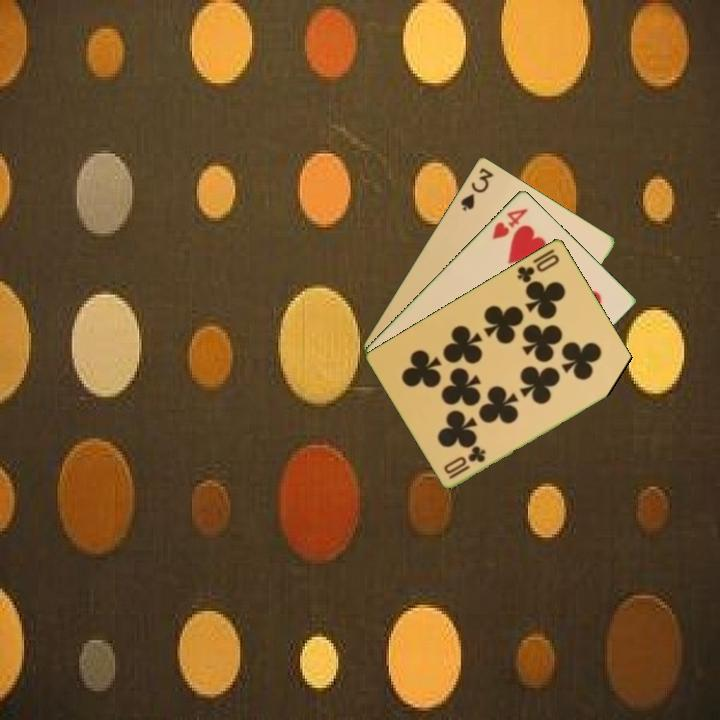10c: (513, 250, 562, 285), (445, 443, 489, 481)
3s: (457, 164, 496, 214)
4h: (488, 204, 531, 242)
